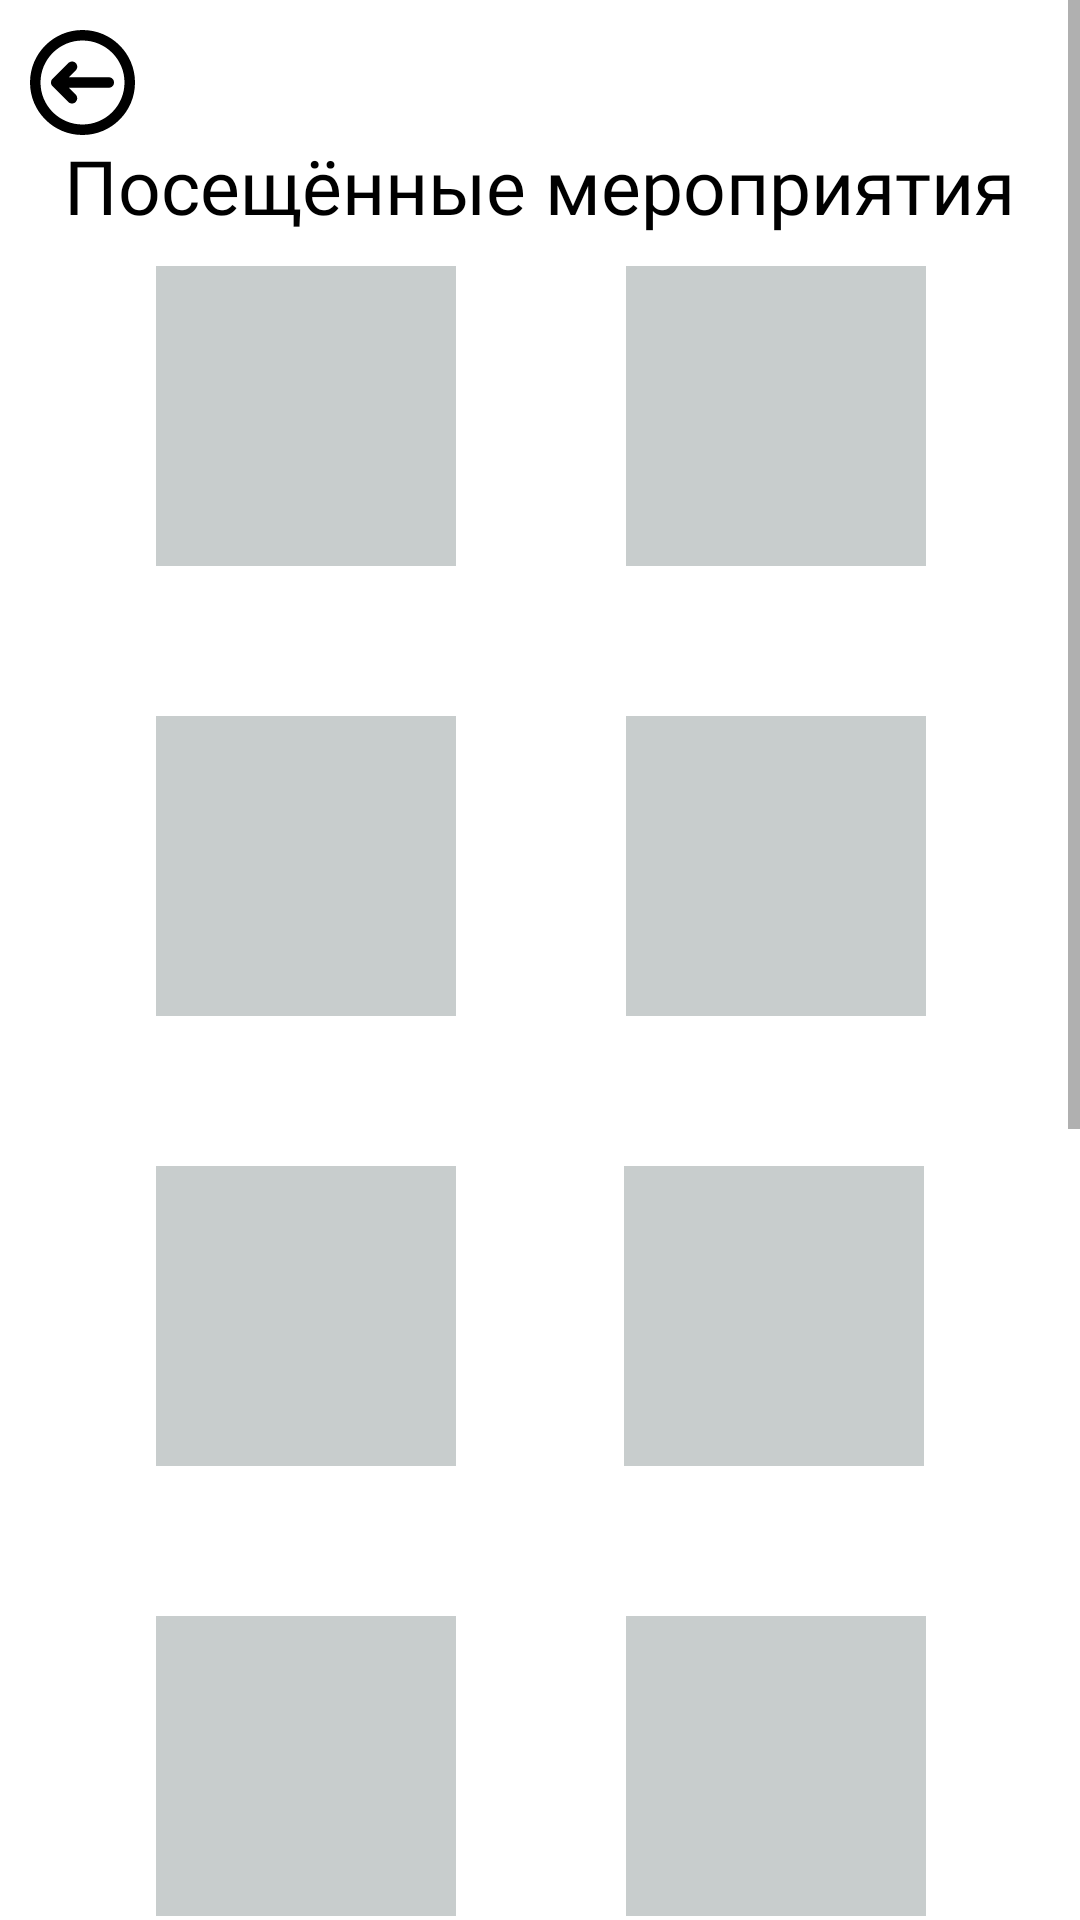

Screen size 1080 × 1920. Icon name, then its center in pixels as [x,y]:
go back: [82,82]
